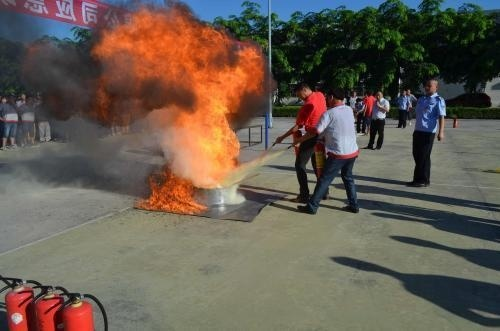fire: (94, 6, 266, 200)
